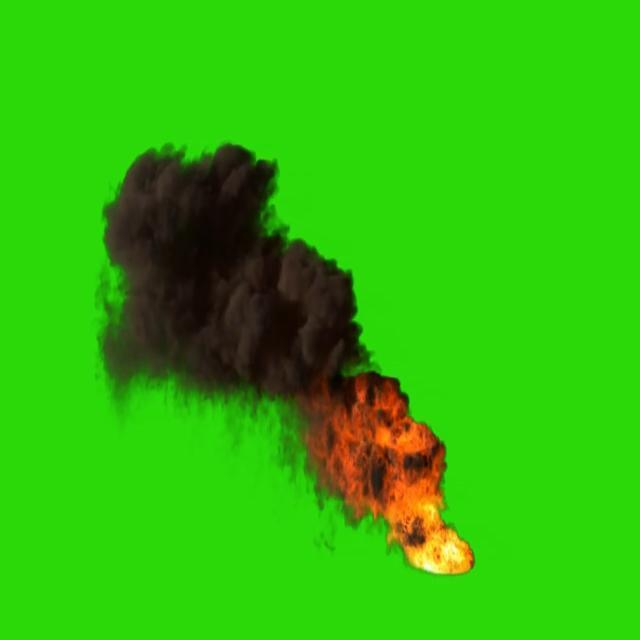Fire: (364, 442, 474, 572)
Smoke: (109, 146, 362, 410)
